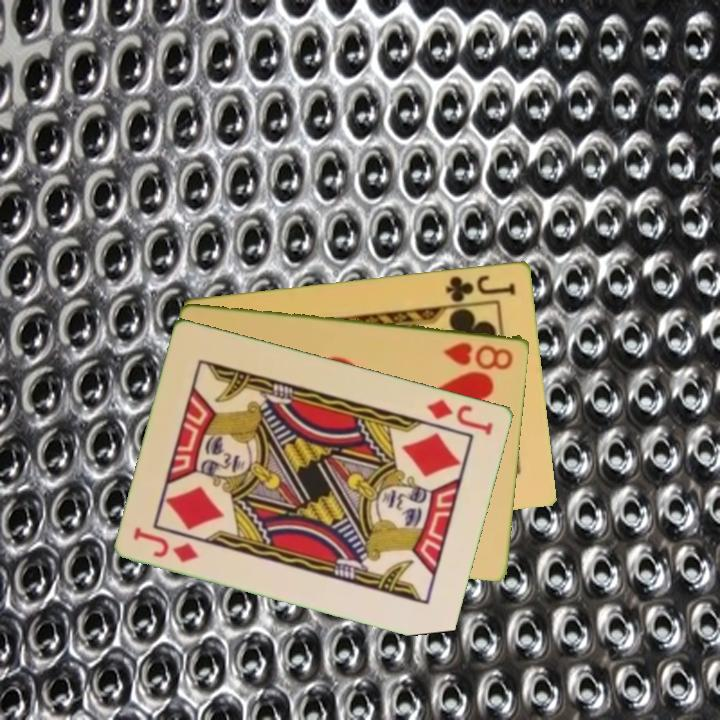8h: (441, 338, 517, 372)
Jc: (442, 271, 519, 305)
Jd: (424, 395, 496, 438), (130, 523, 202, 565)
